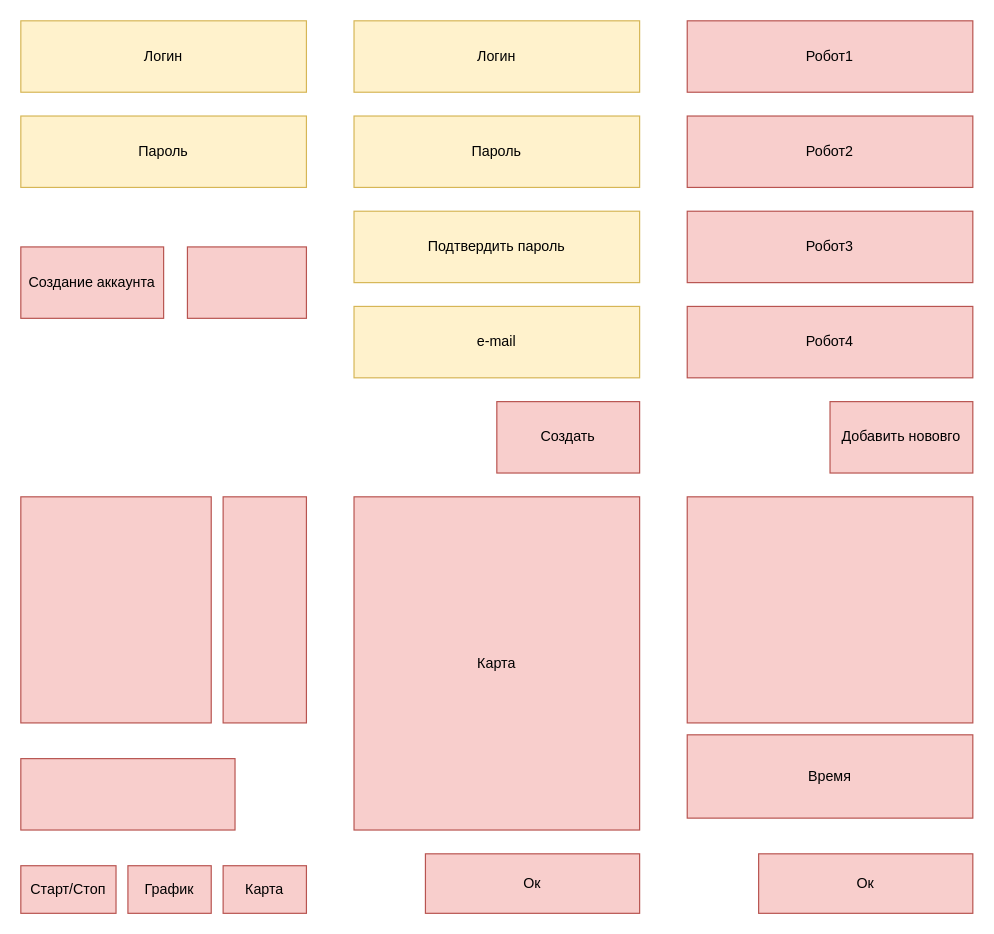
Some shapes in this 994 by 934 pixel diagram are drawn without their labels. Each missing label, with the centre of its shape:
"Войти" belongs at point 246,282.
"Календарь" belongs at point 829,609.
"Место" belongs at point 127,793.
"Статистика" belongs at point 264,609.
"Фото" belongs at point 115,609.
